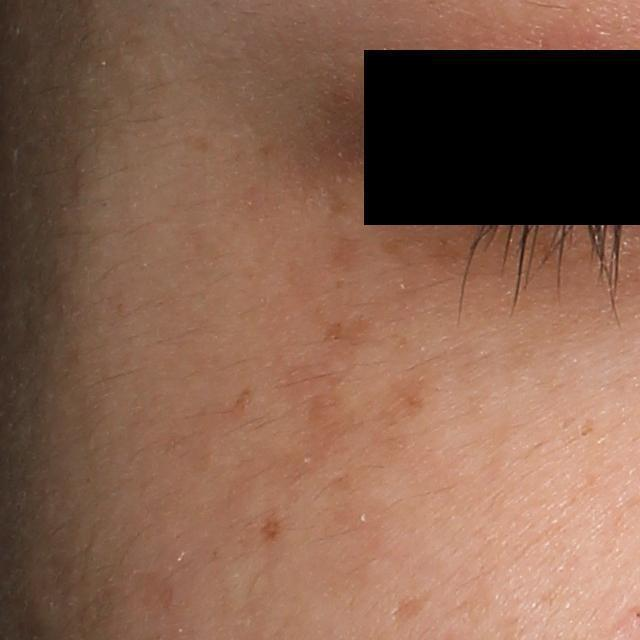atrophic_scar: (379, 586, 436, 628)
melasma: (373, 225, 477, 279), (326, 235, 369, 274), (224, 387, 255, 420)
